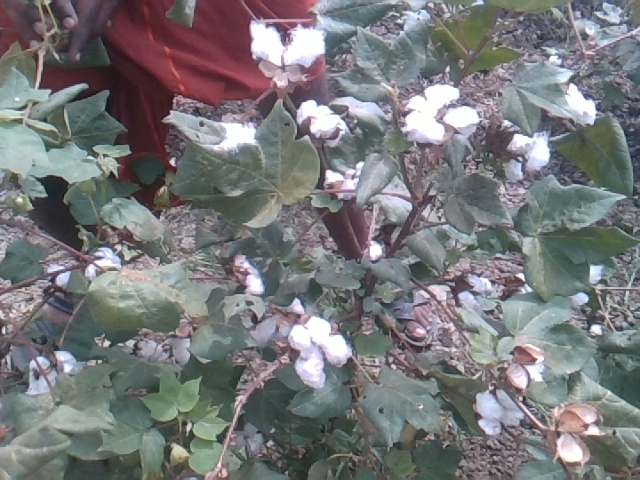cotton: (287, 315, 354, 387), (405, 82, 478, 146), (246, 16, 325, 69), (497, 127, 548, 179), (191, 119, 258, 156), (479, 384, 525, 434), (296, 99, 348, 142), (325, 159, 366, 198), (232, 252, 269, 294), (561, 84, 596, 121), (455, 275, 492, 309), (88, 248, 125, 278), (238, 420, 267, 447), (363, 238, 384, 262)
